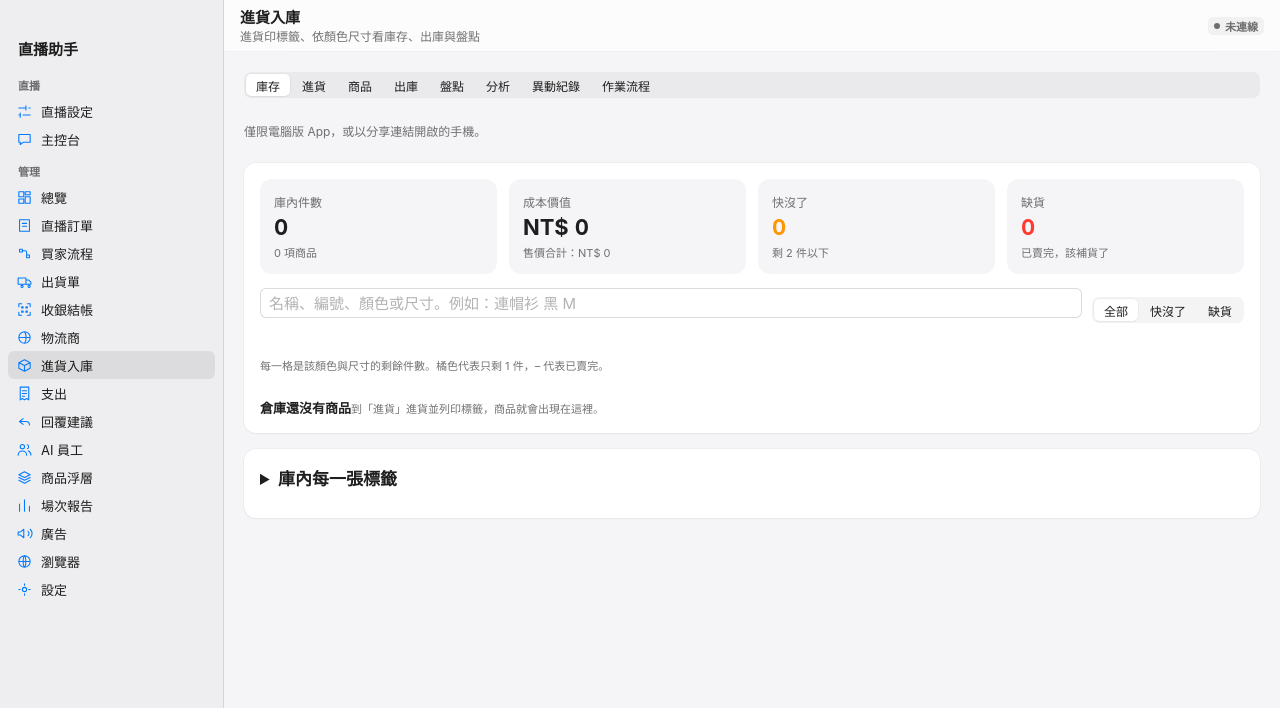
Test: Nhập Kho product list › rejects a catalog item without code and name
Click the button "商品" at coordinates (360, 85), box [338, 74, 382, 96]
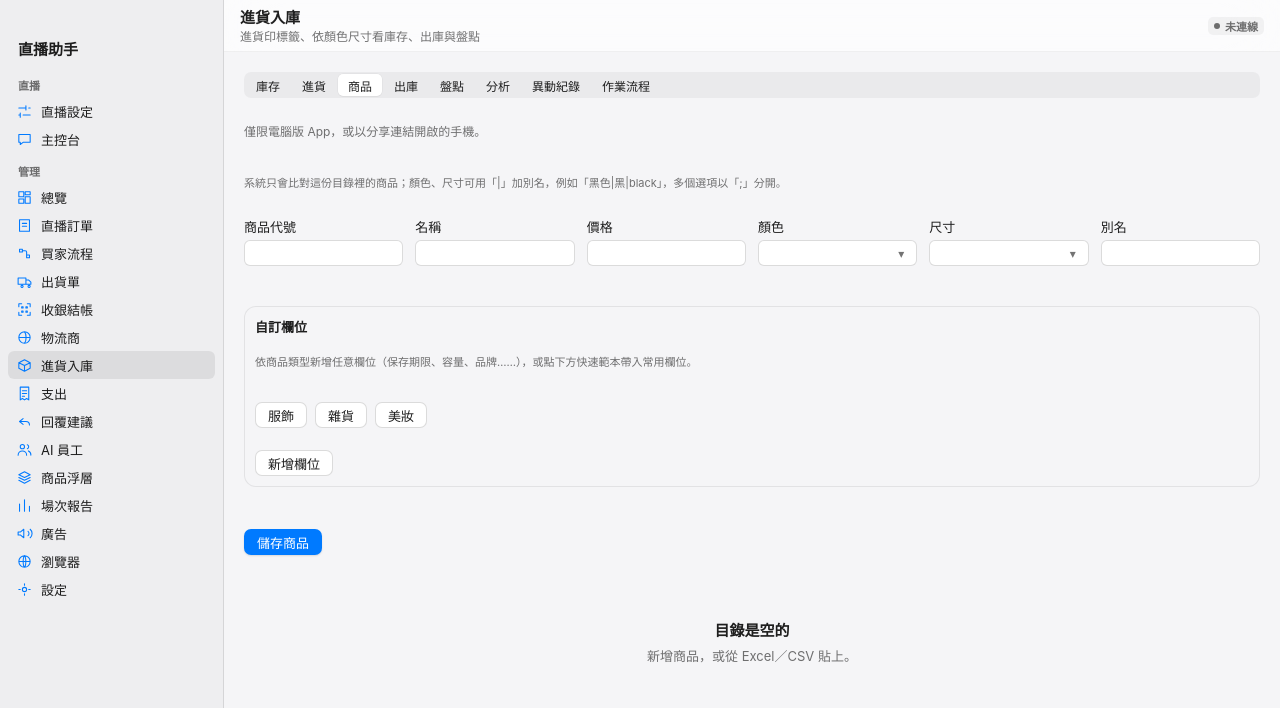
Click the button "儲存商品" at coordinates (283, 542), box [244, 529, 322, 555]
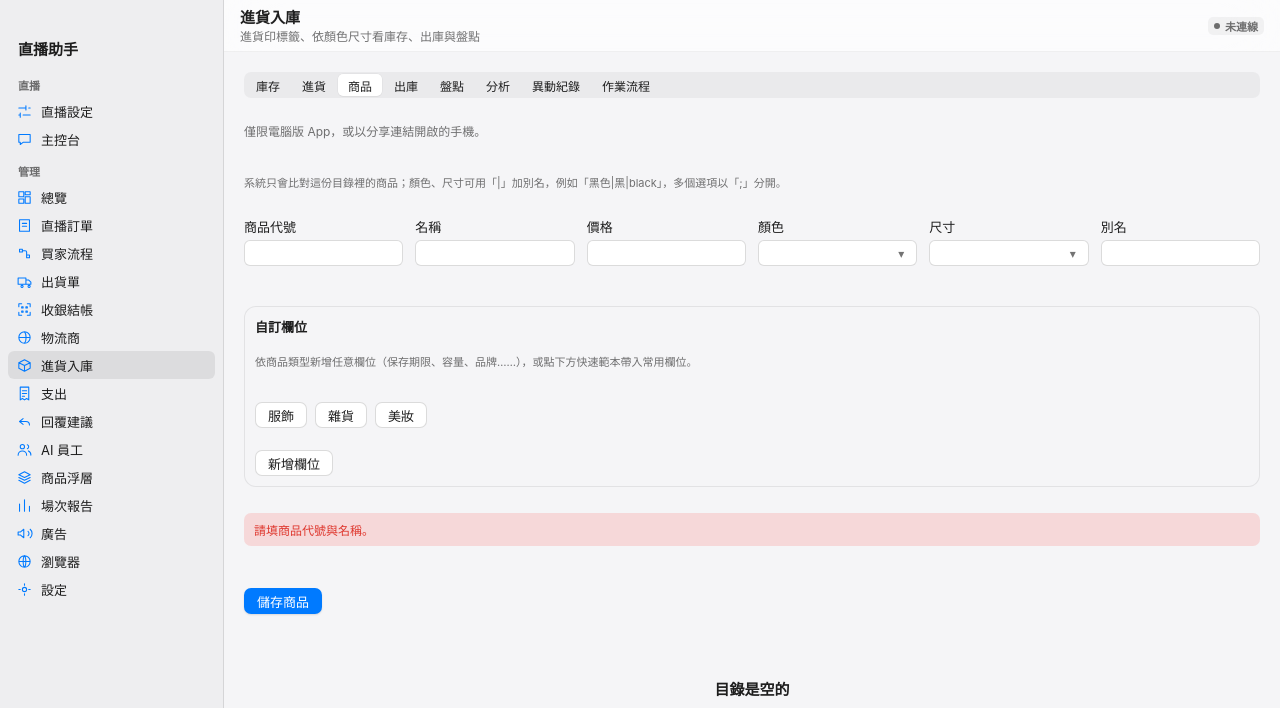
Check: the message reads "請填商品代號與名稱。", box [254, 523, 374, 538]
